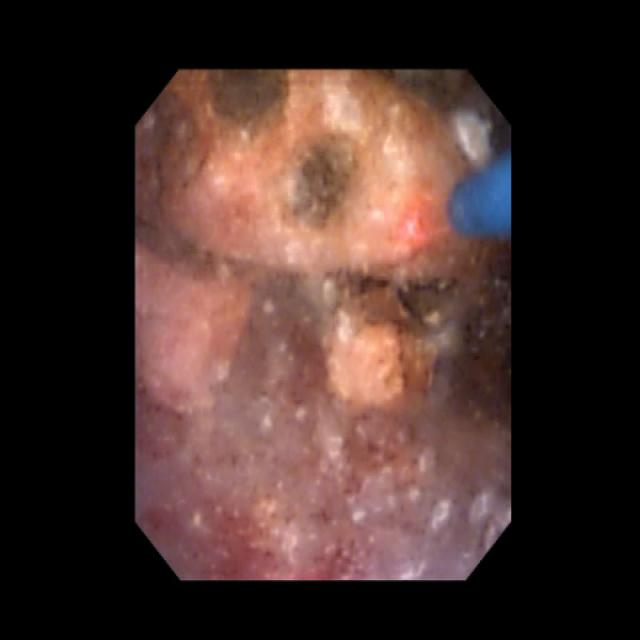fiber: (455, 157, 508, 232)
stone: (144, 77, 481, 279), (143, 249, 250, 406), (327, 291, 435, 409)
